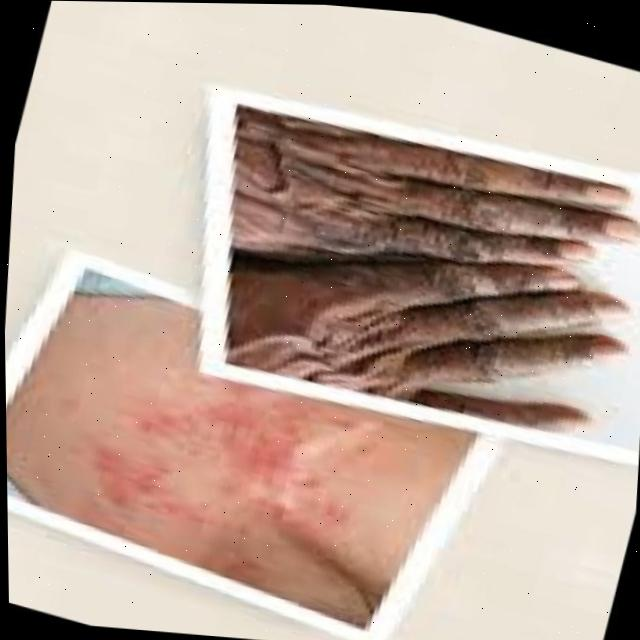Eczema: (412, 155, 593, 389), (111, 389, 323, 551)
